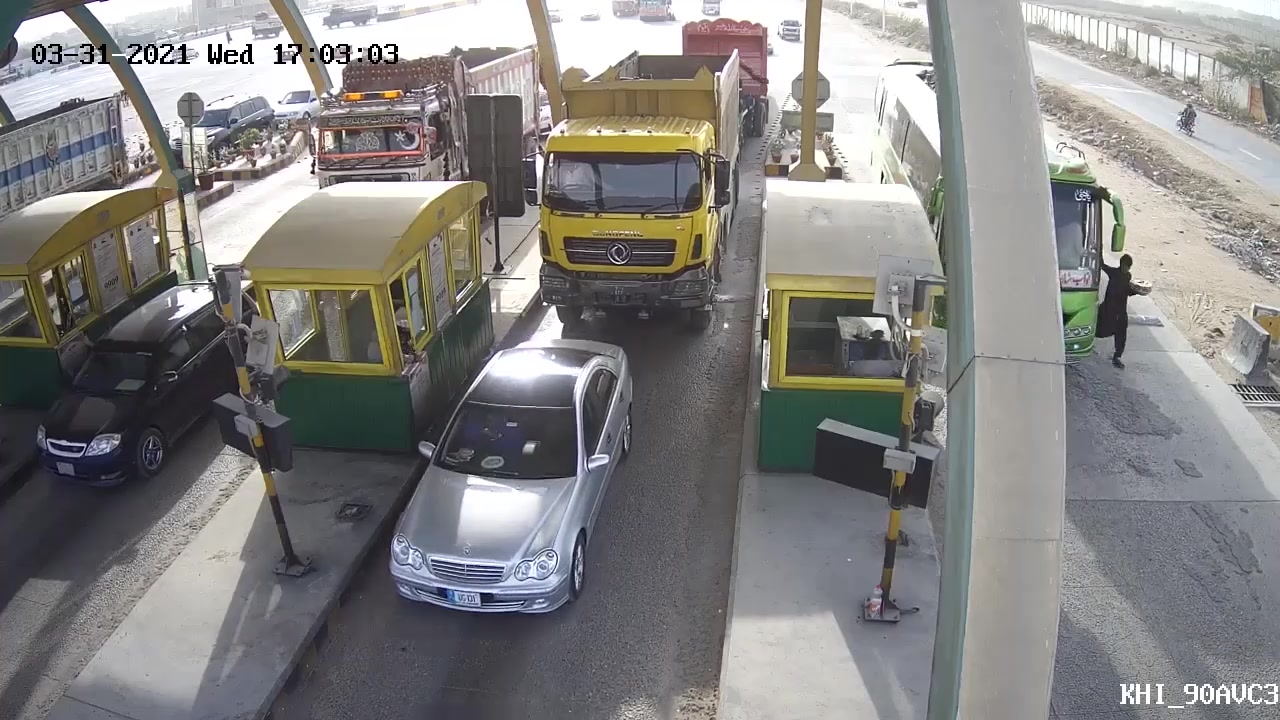F1: (382, 333, 640, 640)
F5: (530, 50, 752, 329)
